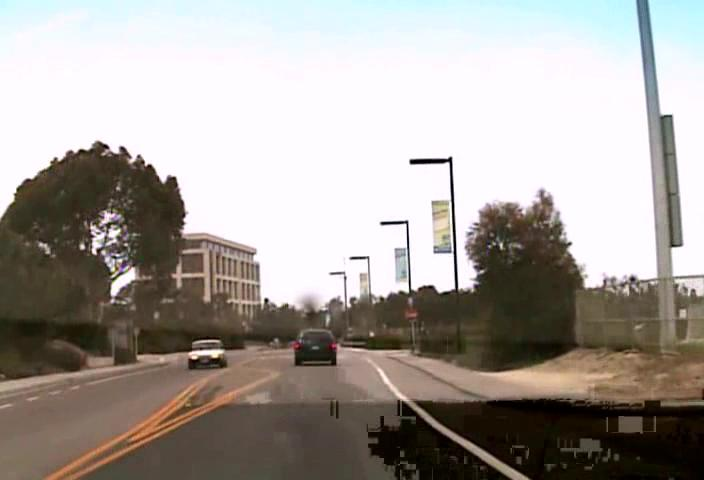stop: (403, 307, 418, 322)
